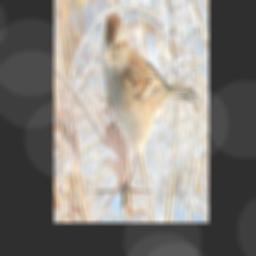Sparrow: (100, 9, 200, 212)
